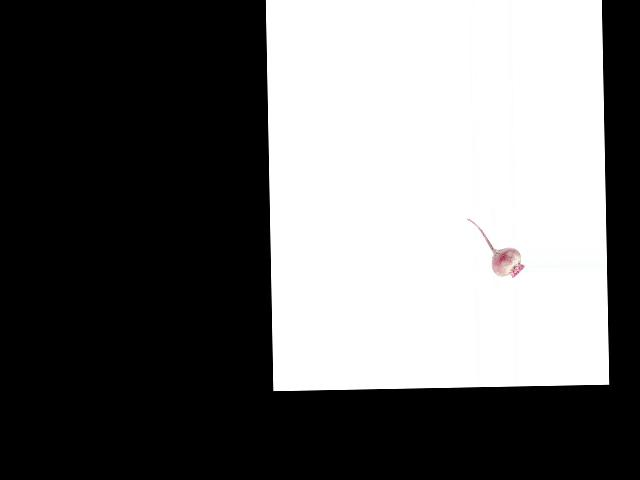beet: (467, 217, 524, 278)
